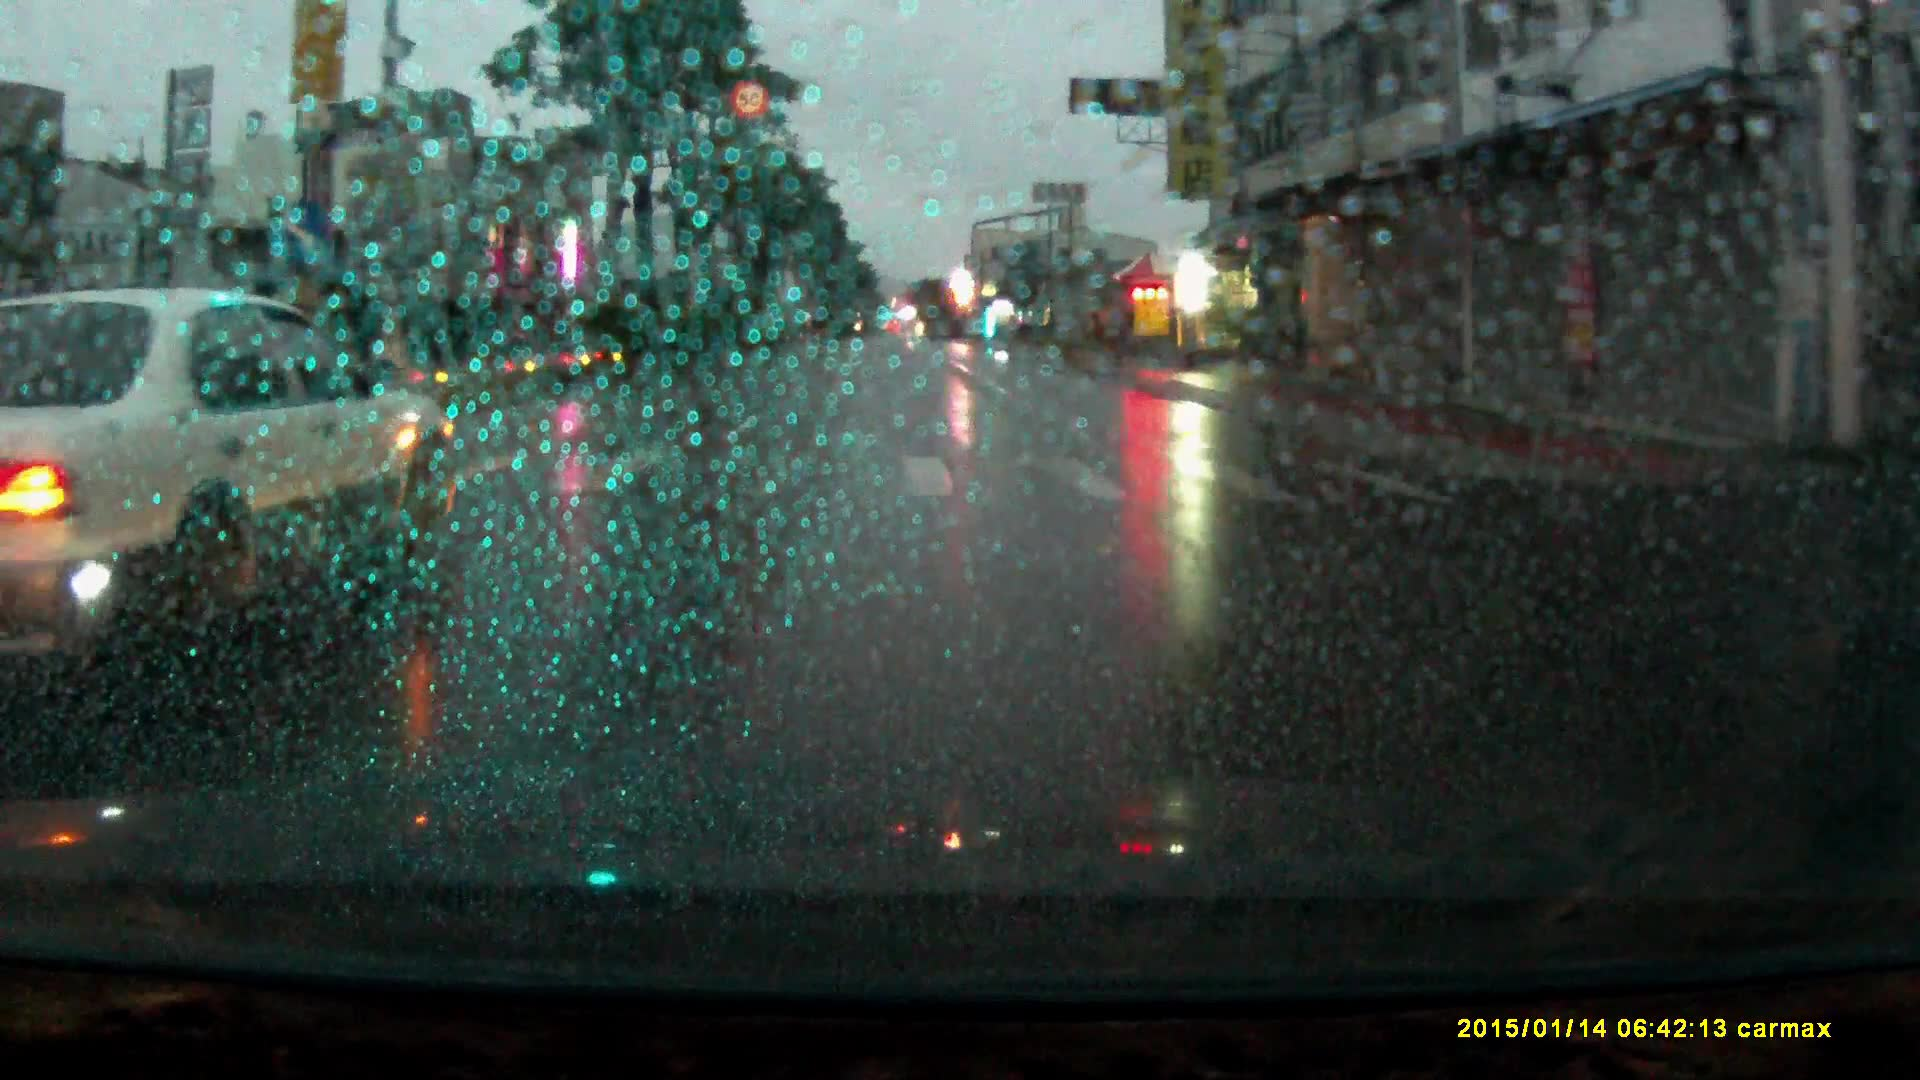vehicle: (1, 289, 467, 661)
